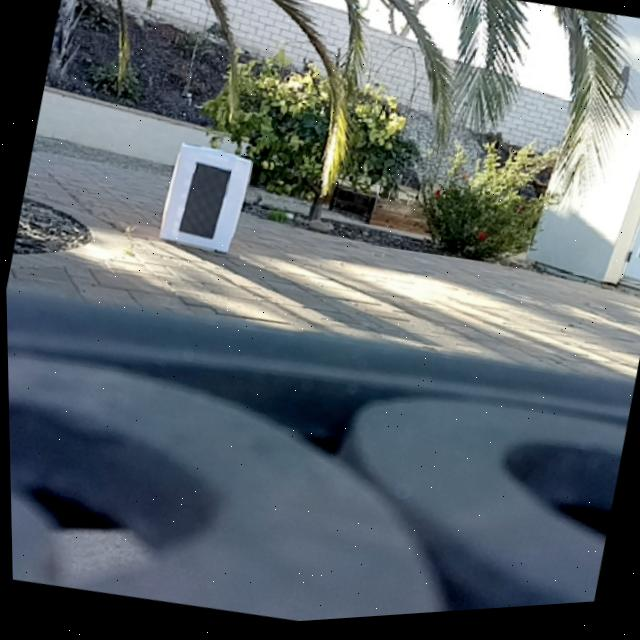led: (173, 158, 234, 247)
